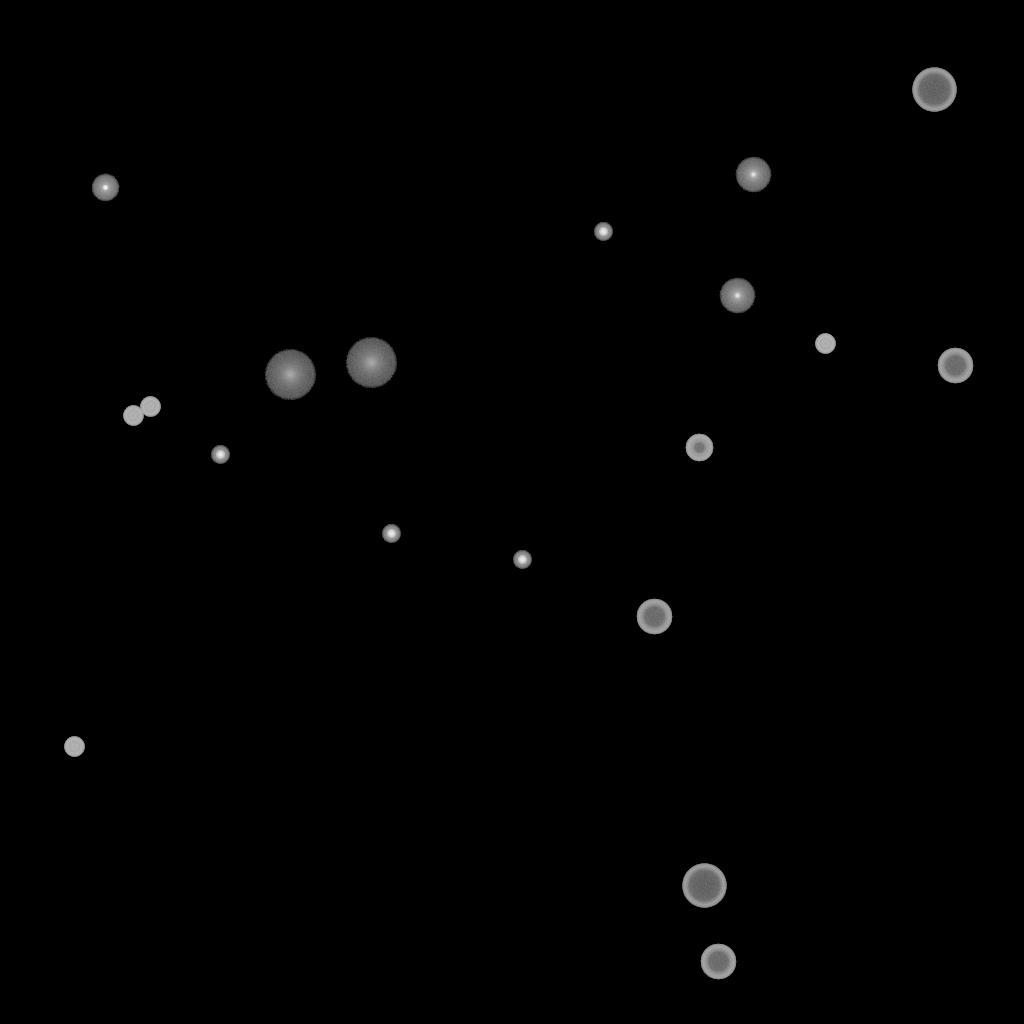depth:-10: (91, 174, 119, 202)
depth:-20: (382, 525, 400, 543), (513, 551, 531, 569), (211, 446, 229, 464), (594, 223, 612, 241)
depth:-40: (140, 397, 160, 417), (64, 737, 84, 757), (123, 406, 143, 426), (815, 334, 835, 354)
depth:-50: (685, 434, 713, 462)
depth:-60: (937, 348, 973, 384), (636, 599, 672, 635), (700, 944, 736, 980)
depth:-70: (912, 68, 956, 112), (682, 864, 726, 908)
depth:0: (719, 278, 755, 314), (735, 157, 771, 193)
depth:20: (264, 350, 316, 400), (345, 338, 397, 388)
